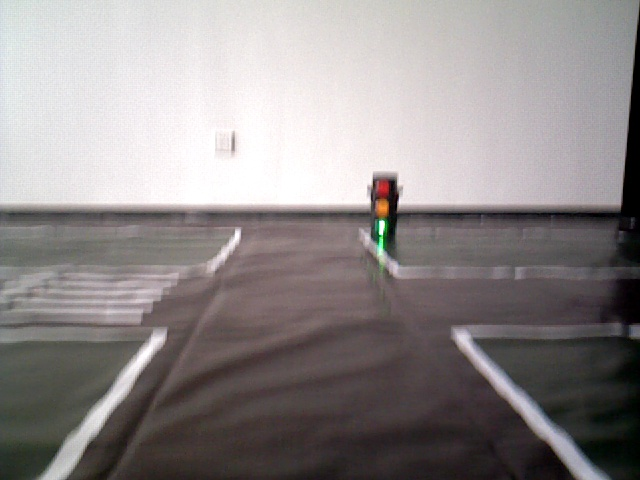green: (368, 174, 397, 241)
